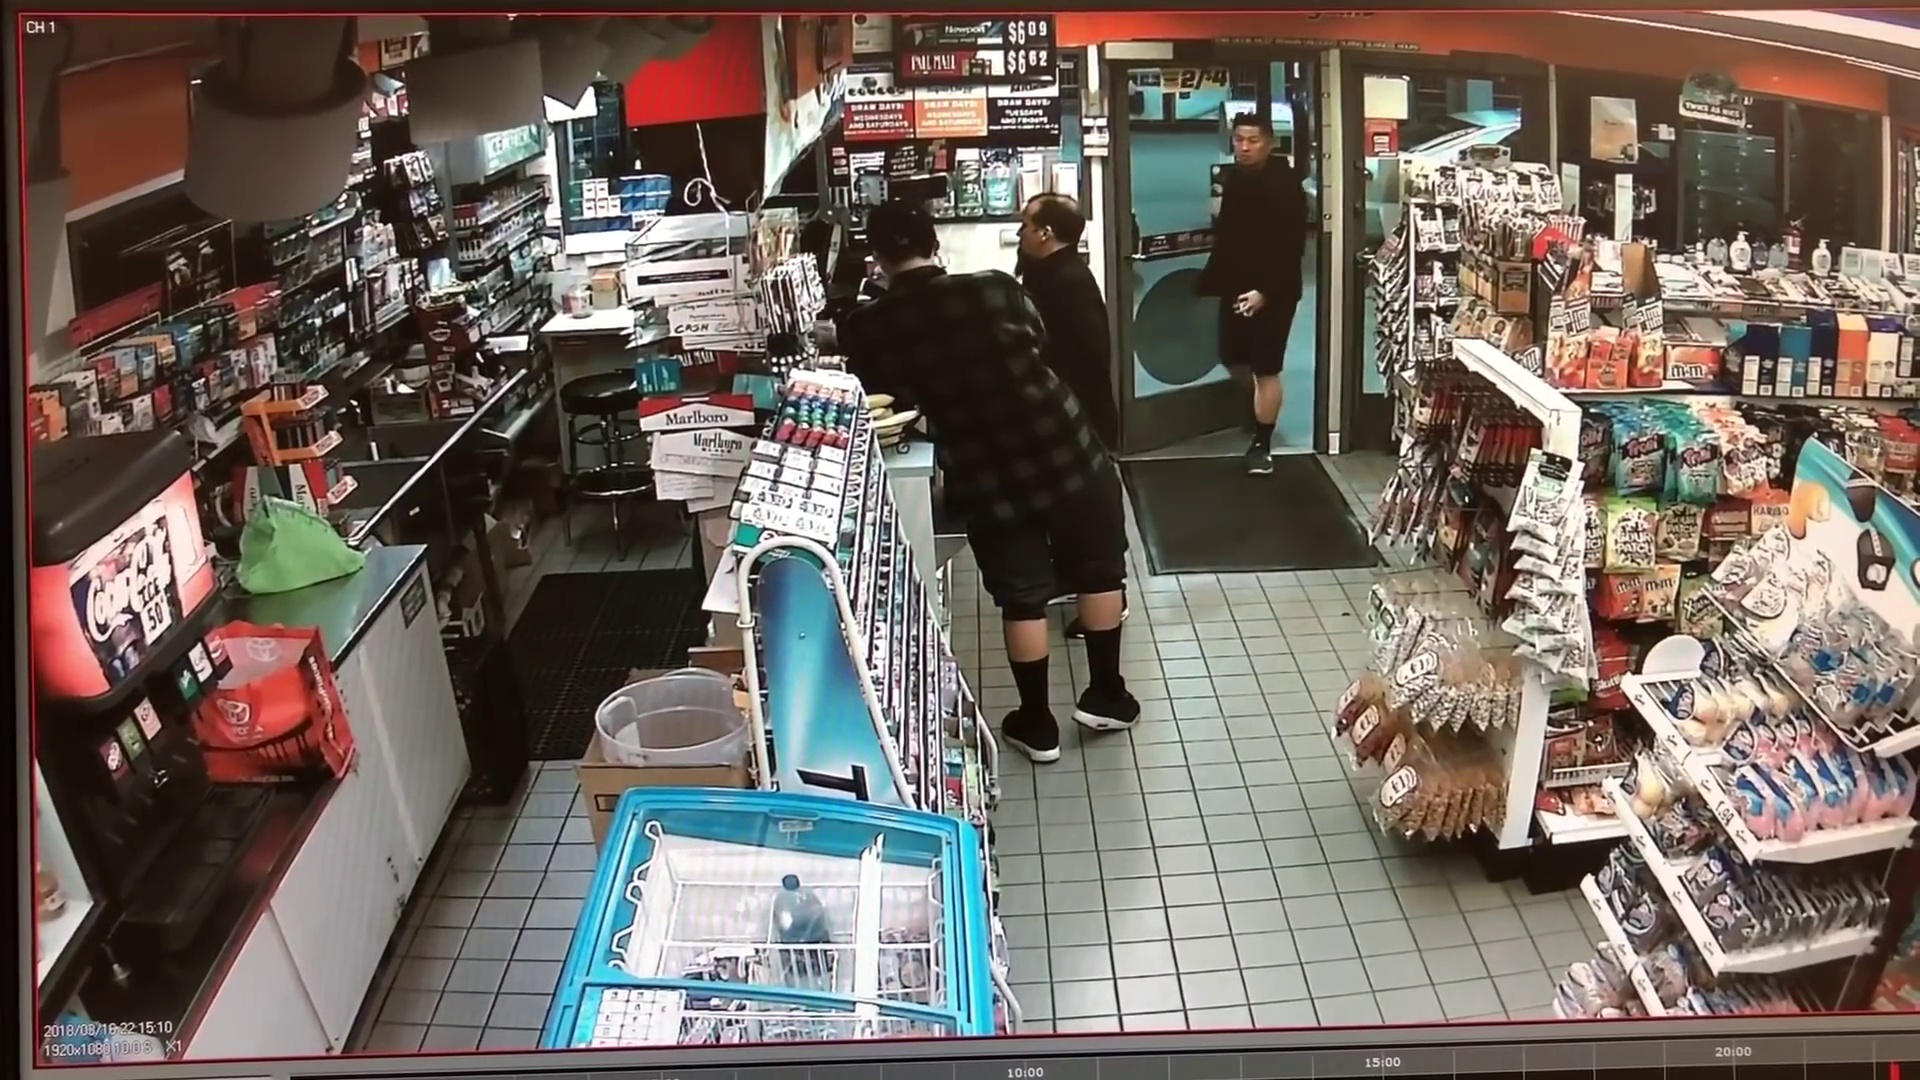face: (1015, 200, 1052, 256), (1232, 126, 1270, 164)
